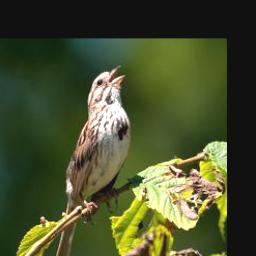Sparrow: (53, 63, 132, 256)
